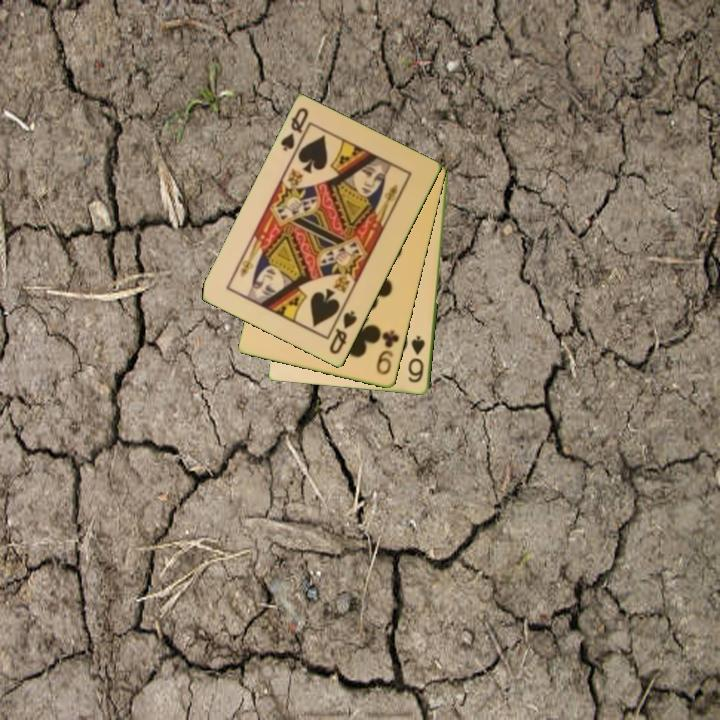6s: (405, 333, 428, 386)
9c: (373, 327, 402, 378)
Qs: (277, 104, 312, 155), (326, 307, 360, 358)
